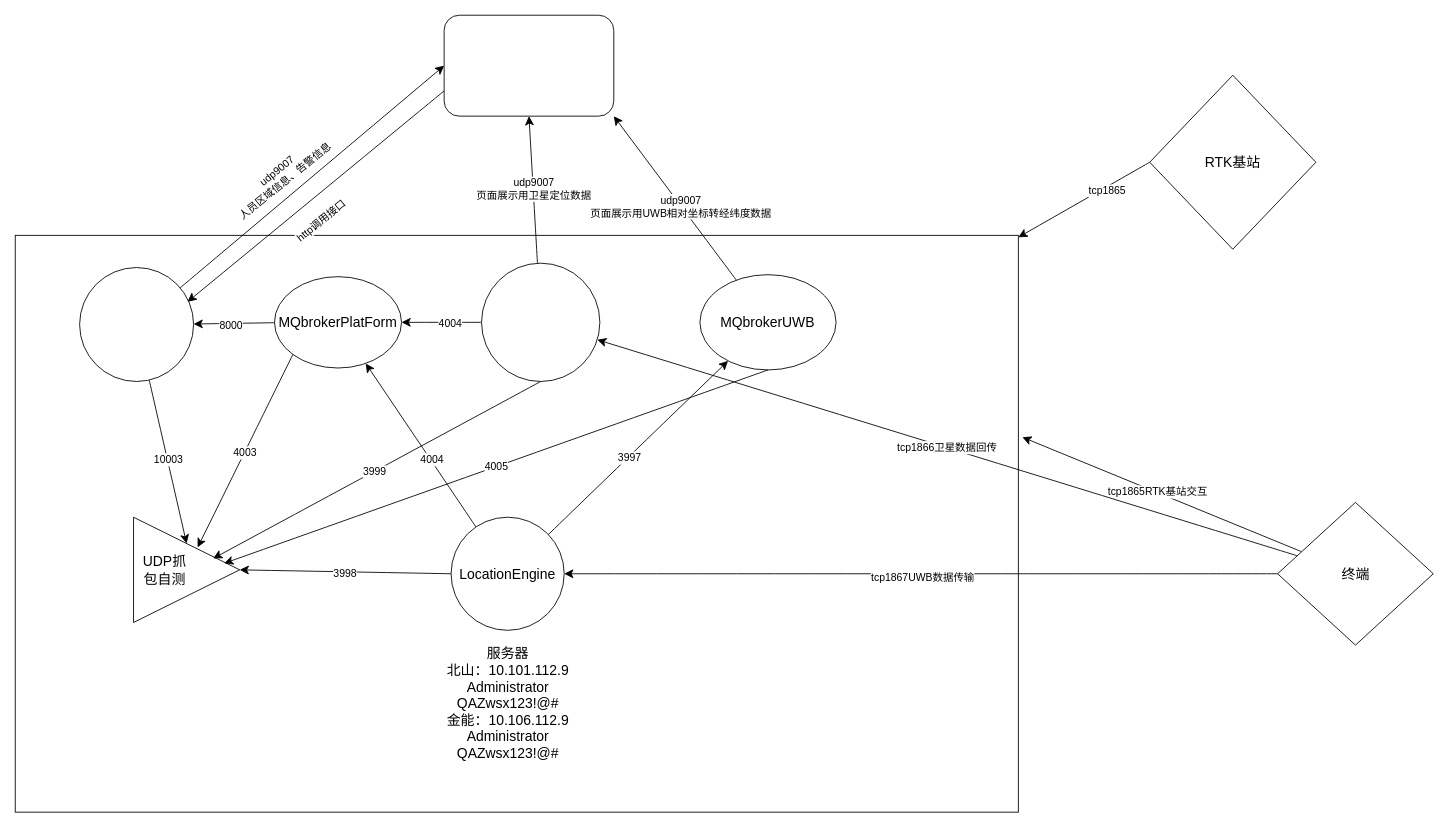
This 1449x827 diagram has some shape labels left out. Here are the shapes that lost their labels. From the top down, the centre of each, then its label:
point (528, 65): 综管平台 北山：10.101.101.227 金能：172.16.2.100
point (136, 324): platform
point (540, 321): JT808
